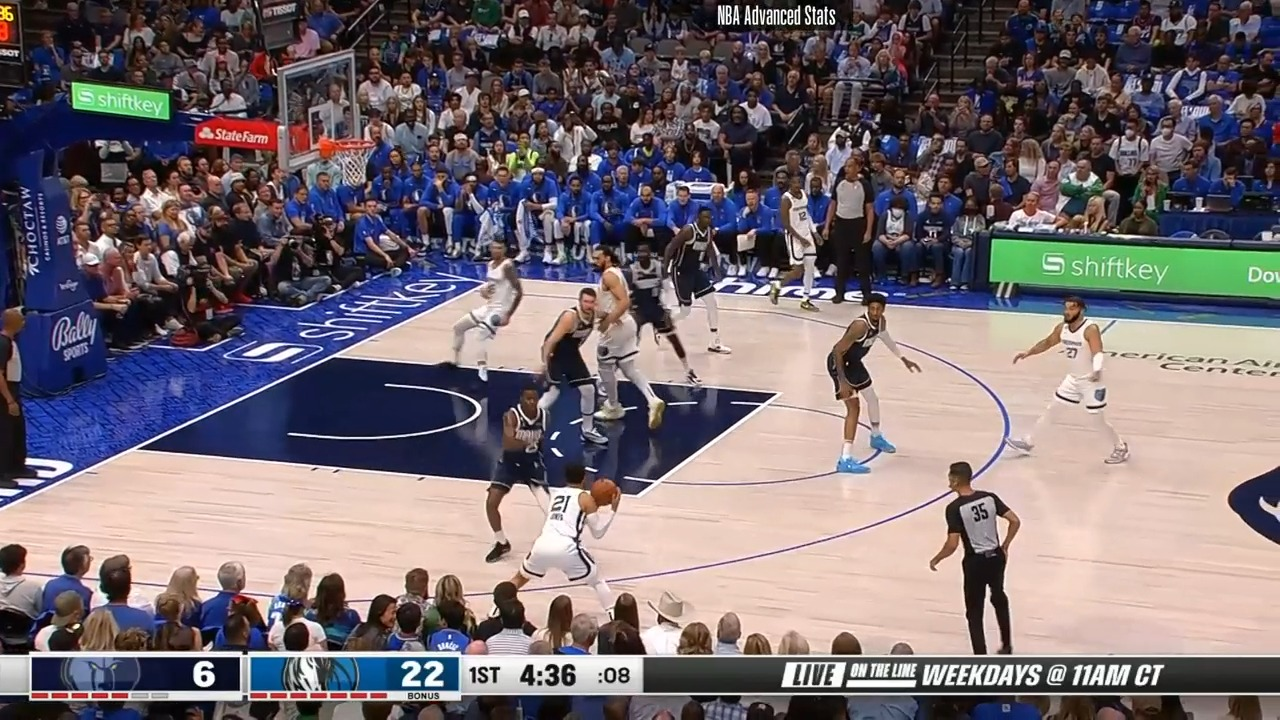net: (315, 135, 378, 190)
player: (1000, 291, 1129, 467), (822, 288, 921, 477), (503, 468, 626, 618), (485, 381, 569, 566), (589, 251, 668, 433), (626, 237, 701, 387), (445, 239, 525, 366), (537, 288, 607, 429), (669, 208, 731, 358), (760, 169, 816, 315)
referee: (927, 459, 1025, 659), (822, 149, 877, 306), (1, 297, 35, 492)
